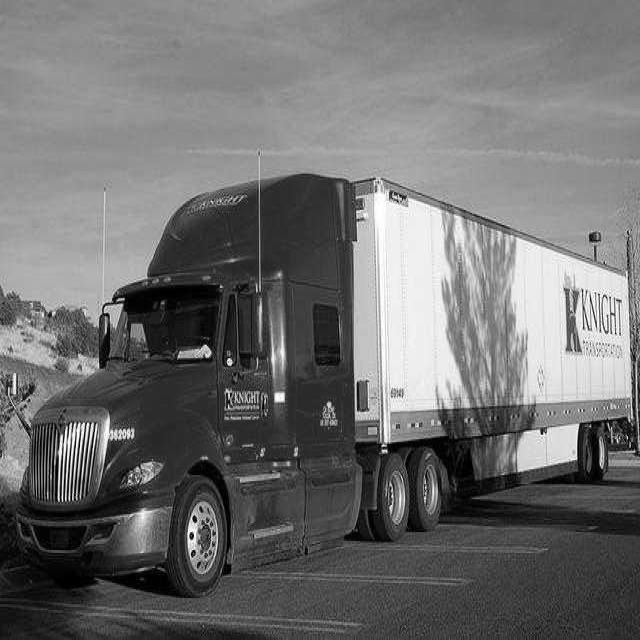Truck: (18, 174, 632, 595)
